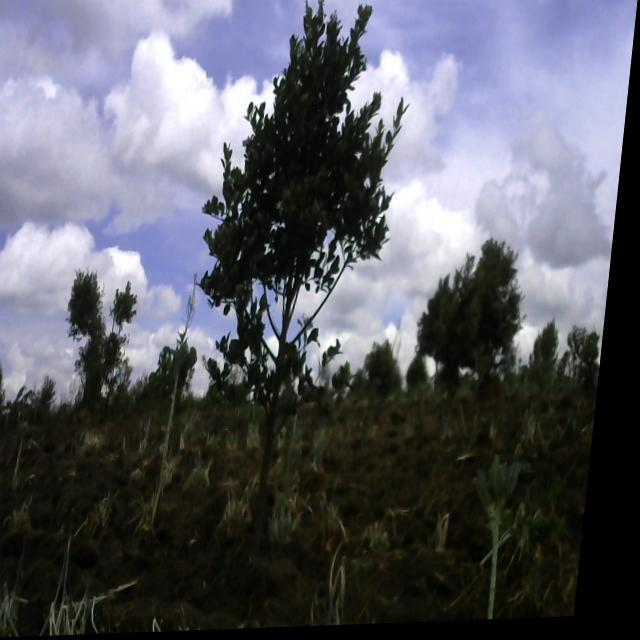other: (174, 0, 420, 562), (416, 240, 540, 395), (55, 256, 156, 420)
